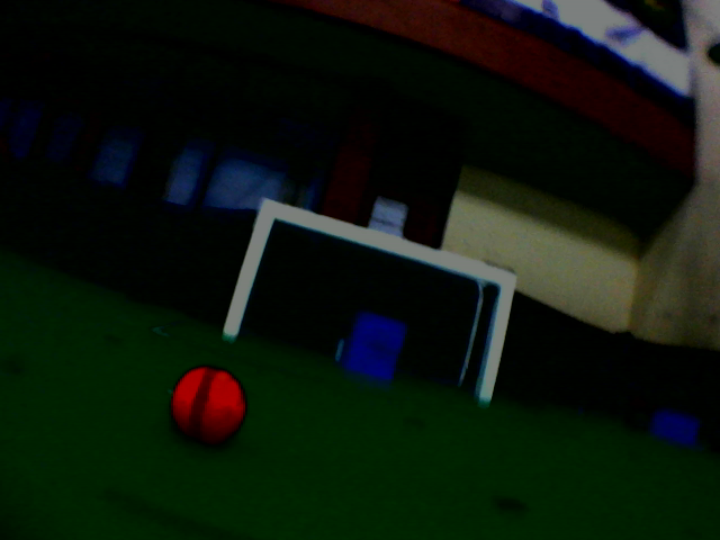bola: (164, 360, 251, 446)
